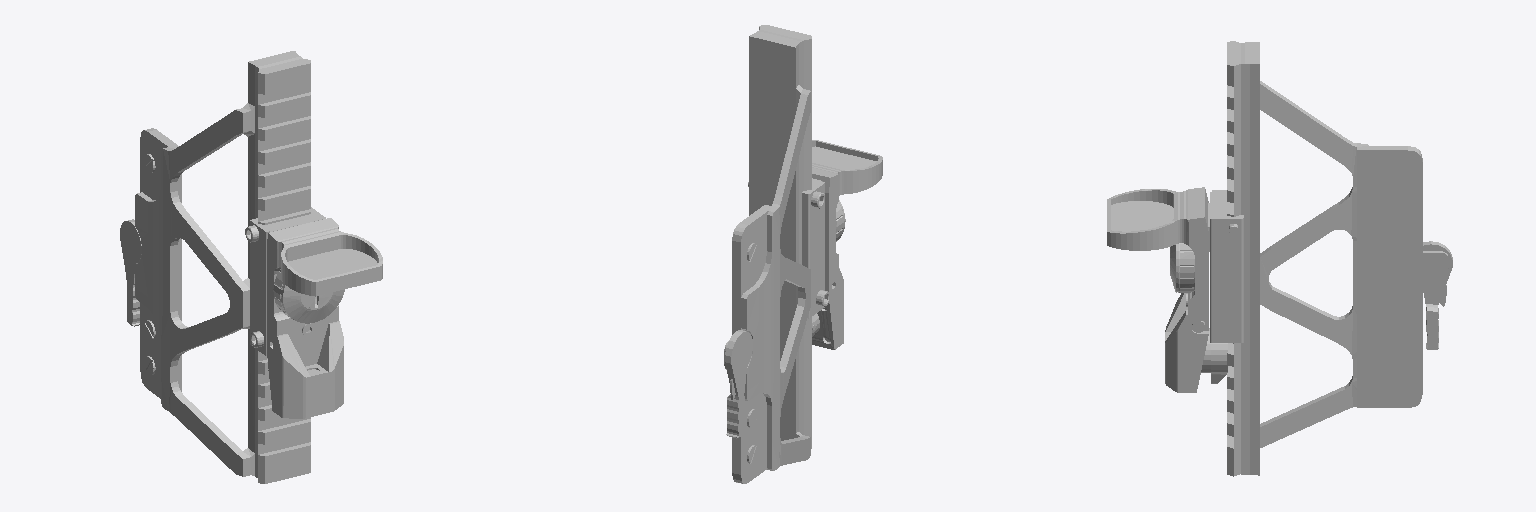
File: Sight.obj
The picture shows the model from 3 angles: view 1: azimuth 30°, elevation 25°; view 2: azimuth 150°, elevation 25°; view 3: azimuth 270°, elevation 25°; orthographic projection.
Visible parts, largest first — view 1: CPT; view 2: CPT; view 3: CPT.
Part boxes in pixels (x1,y1,x2,y2): CPT: (120,51,382,483); CPT: (724,25,882,483); CPT: (1107,41,1452,476).
Size of the model in its own units: 3.57 by 14.07 by 10.72.